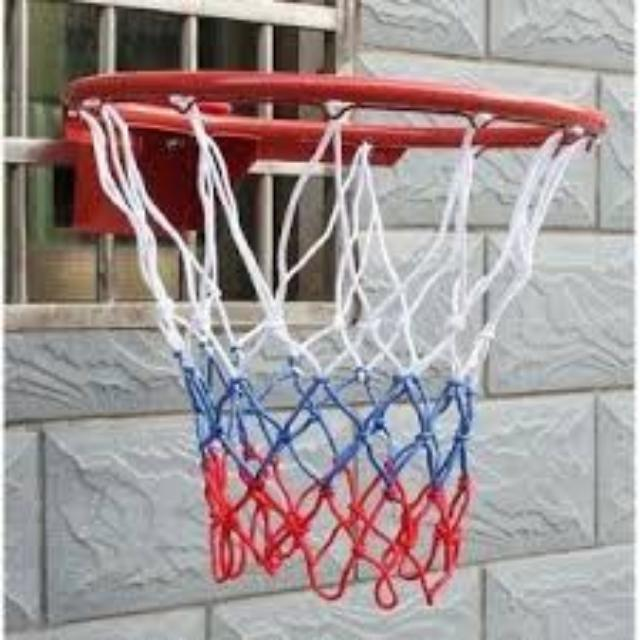rim: (67, 66, 607, 604)
